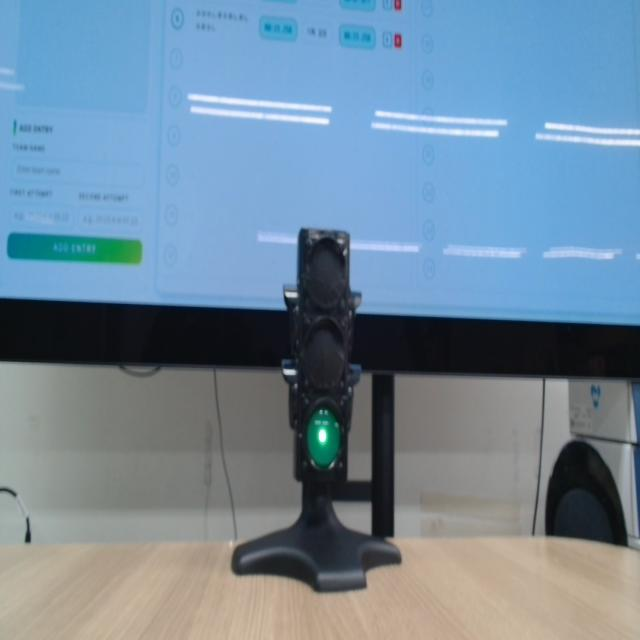green_light: (307, 408, 341, 468)
